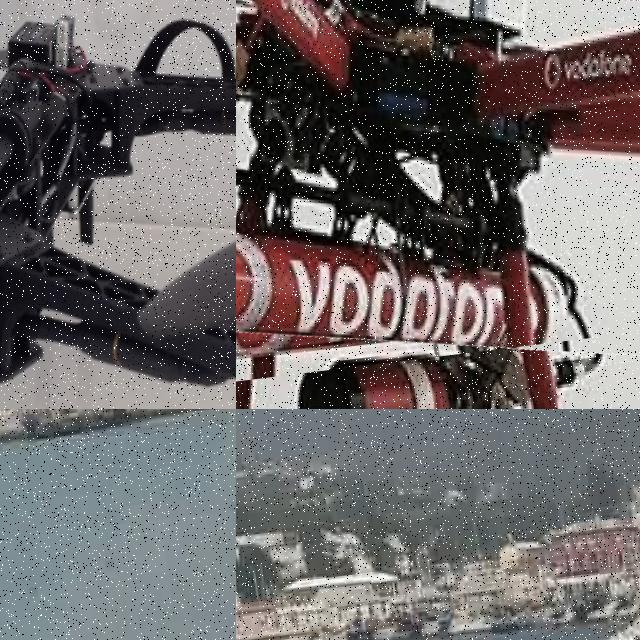drone: (236, 0, 640, 402), (0, 0, 236, 409)
